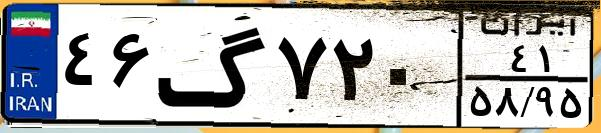0: (385, 28, 445, 110)
1: (537, 27, 568, 80)
2: (330, 28, 385, 110)
4: (57, 26, 110, 100), (508, 27, 537, 80)
5: (560, 70, 590, 125), (470, 70, 495, 125)
6: (110, 28, 156, 98)
7: (270, 28, 330, 110)
8: (495, 70, 520, 125)
9: (535, 70, 560, 125)
گ: (156, 12, 270, 120)
